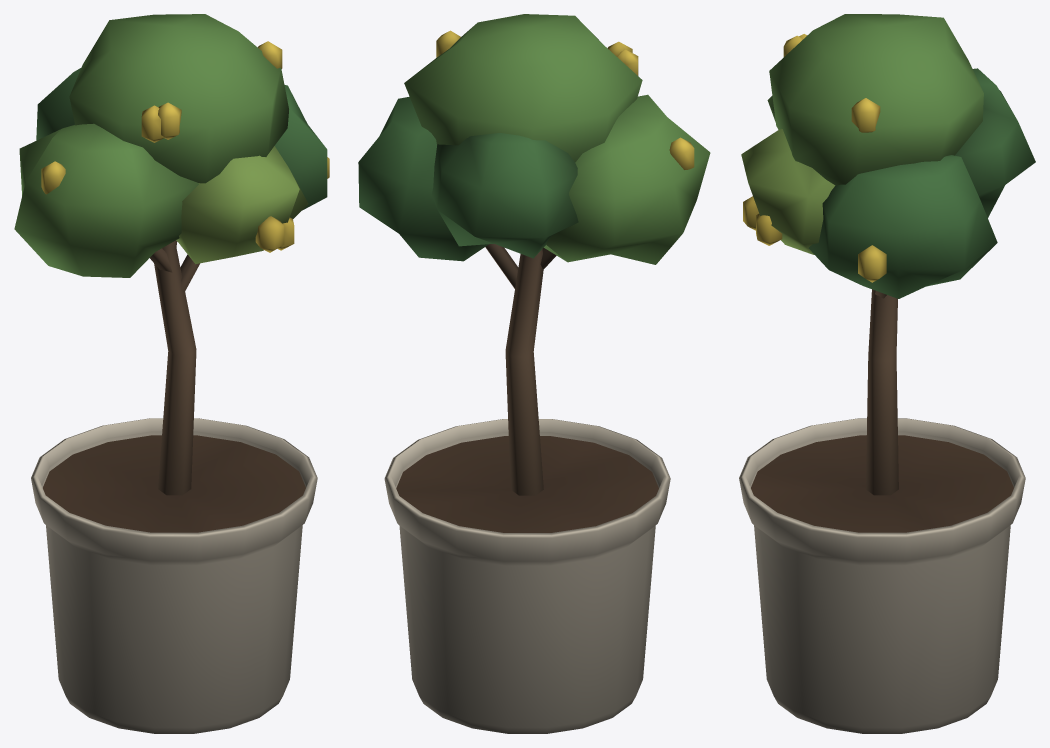
File: PotC.fbx
3 views of the same model, side by side, from view 1: azimuth 30°, elevation 25°; view 2: azimuth 150°, elevation 25°; view 3: azimuth 270°, elevation 25° (orthographic).
Visible parts, largest first — view 1: PotC; view 2: PotC; view 3: PotC.
Part boxes in pixels (box(x1,y1,x2,y2)): PotC: box(14, 14, 329, 733); PotC: box(358, 14, 710, 733); PotC: box(739, 14, 1035, 733).
Size of the model in its own units: 0.7605 by 1.58 by 0.642.
